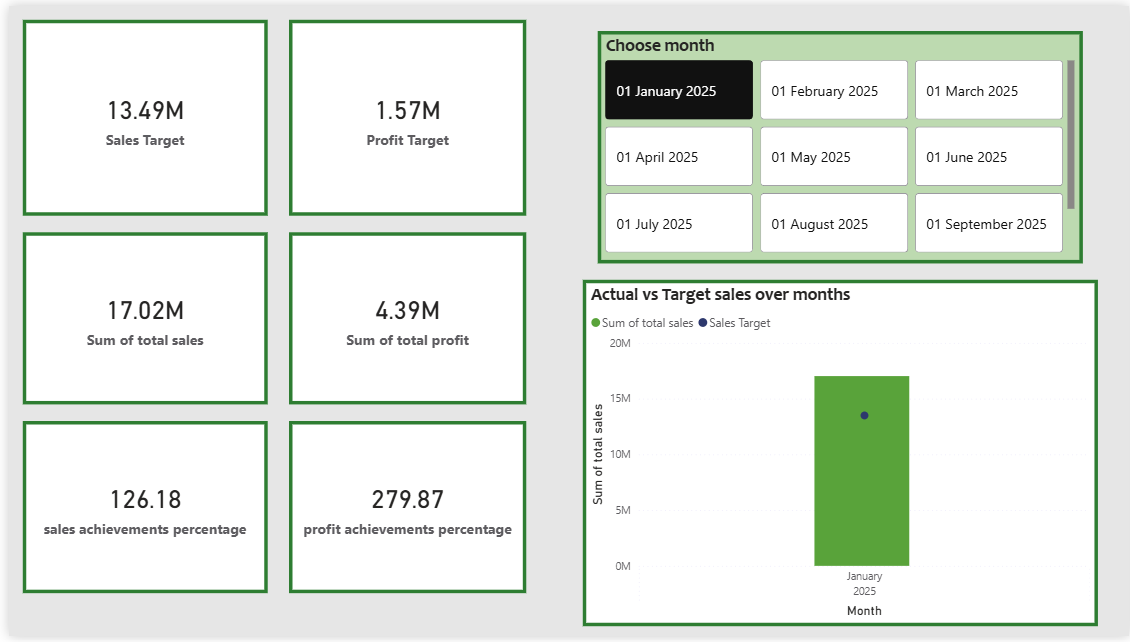

What the dashboard file says about the page in this screenshot:
{"tool":"powerbi","page":{"name":"Page 3","canvas":[1280,720],"ordinal":2},"visuals":[{"type":"card","fields":{"Values":["Sum(order_details.total price per order)"]},"box":[15.7,258.6,280,197.1],"z":0},{"type":"advancedSlicerVisual","title":"Choose month","fields":{"Values":["monthly_targets.target_month"]},"box":[672.9,28.6,554.3,265.7],"z":1000},{"type":"card","fields":{"Values":["orders.Sales Target"]},"box":[15.7,15.7,280,224.3],"z":2000},{"type":"card","fields":{"Values":["order_details.profit target measure"]},"box":[320,15.7,271.4,224.3],"z":3000},{"type":"card","fields":{"Values":["Sum(order_details.total profit per order)"]},"box":[320,258.6,271.4,197.1],"z":4000},{"type":"card","fields":{"Values":["orders.sales acheivemnets percentage"]},"box":[320,474.3,271.4,197.1],"z":5000},{"type":"card","fields":{"Values":["orders.sales acheivemnets percentage"]},"box":[15.7,474.3,280,197.1],"z":6000},{"type":"lineClusteredColumnComboChart","title":"Actual vs Target sales over months","fields":{"Category":["monthly_targets.target_month.Variation.Date Hierarchy.Year","monthly_targets.target_month.Variation.Date Hierarchy.Month"],"Y":["Sum(order_details.total sales per order)"],"Y2":["orders.Sales Target"]},"box":[655.7,312.9,588.6,395.7],"z":7000}]}

Visuals, with their boxes in screenshot pixels (x1, y1, x2, y2), scaled from the page's 1280x720 canvas onto the 1130x642 screenshot:
card - Sum(order_details.total price per order): [left=14, top=231, right=261, bottom=406]
"Choose month" advancedSlicerVisual: [left=594, top=26, right=1083, bottom=262]
card - orders.Sales Target: [left=14, top=14, right=261, bottom=214]
card - order_details.profit target measure: [left=282, top=14, right=522, bottom=214]
card - Sum(order_details.total profit per order): [left=282, top=231, right=522, bottom=406]
card - orders.sales acheivemnets percentage: [left=282, top=423, right=522, bottom=599]
card - orders.sales acheivemnets percentage: [left=14, top=423, right=261, bottom=599]
"Actual vs Target sales over months" lineClusteredColumnComboChart: [left=579, top=279, right=1098, bottom=632]
